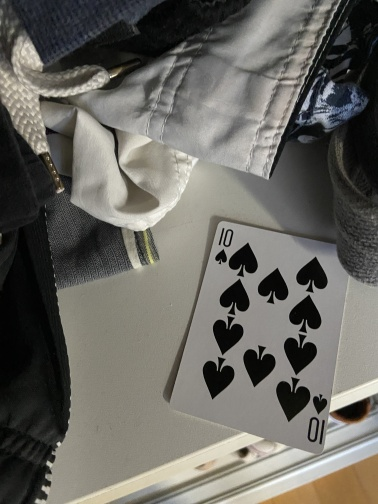ten: (167, 219, 358, 456)
